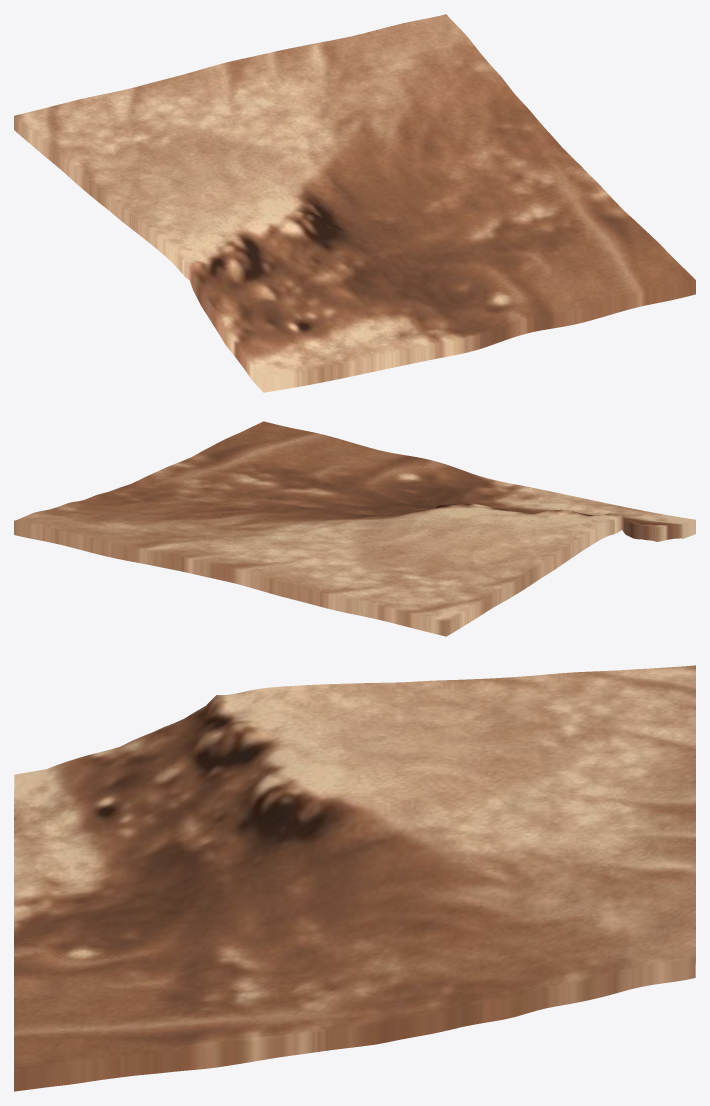
3 views of the same model, one above another, from view 1: azimuth 30°, elevation 25°; view 2: azimuth 150°, elevation 25°; view 3: azimuth 270°, elevation 25° (orthographic). The views are drawn at different scales.
Parts seen in each view (by area): view 1: L8_92_95; view 2: L8_92_95; view 3: L8_92_95.
Part boxes in pixels (<box>): L8_92_95: <box>14,14,695,392</box>; L8_92_95: <box>14,421,695,636</box>; L8_92_95: <box>14,665,695,1091</box>.
Size of the model in its own units: 56.27 by 13.08 by 56.29.
Materials: 1 (1 with a texture image).
